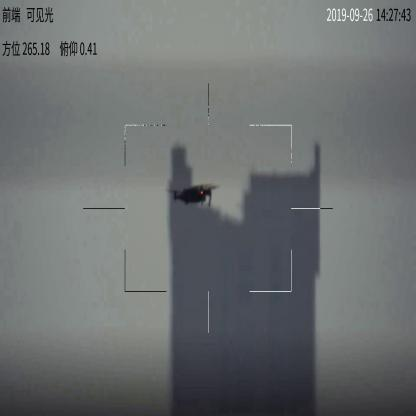uav: (164, 182, 221, 207)
